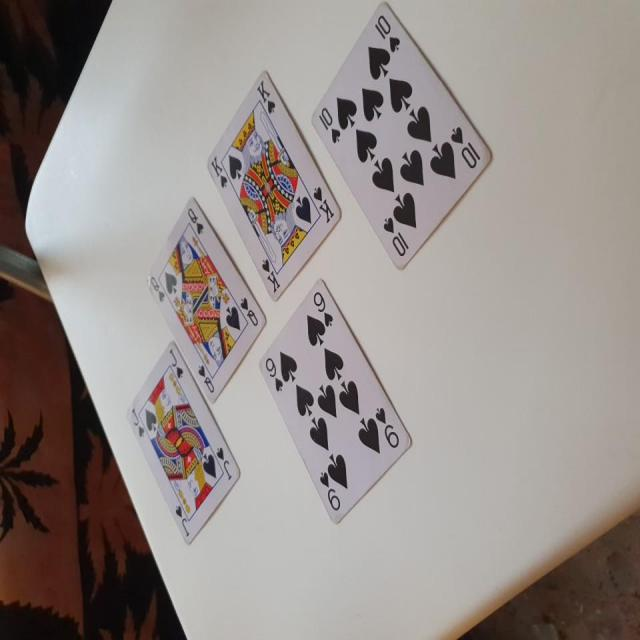10 Spades: (308, 2, 497, 274)
9 Spades: (251, 274, 418, 532)
J Spades: (122, 341, 247, 552)
K Spades: (200, 59, 346, 298)
Q Spades: (140, 198, 269, 406)
